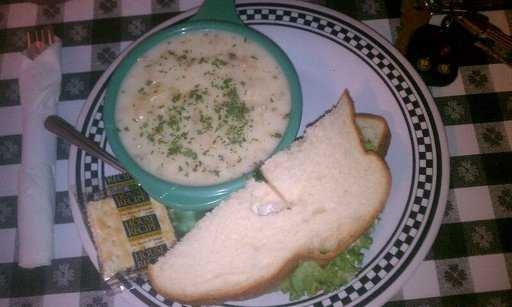soup: (107, 29, 286, 189)
